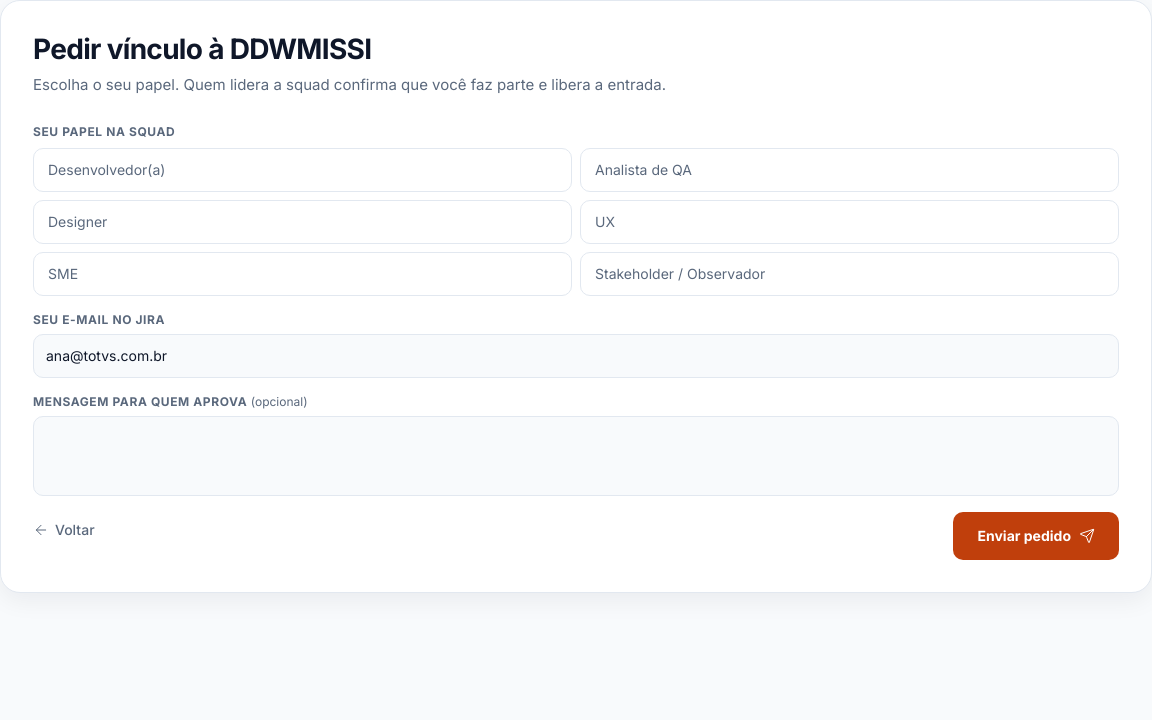
Test: RequestLinkStep: pessoa que não aparece na lista › envia kind=CONTRIBUTOR e requestedRoleName
Click the radio button labelled "Analista de QA".
click(643, 169)  # box [580,148,1119,192]
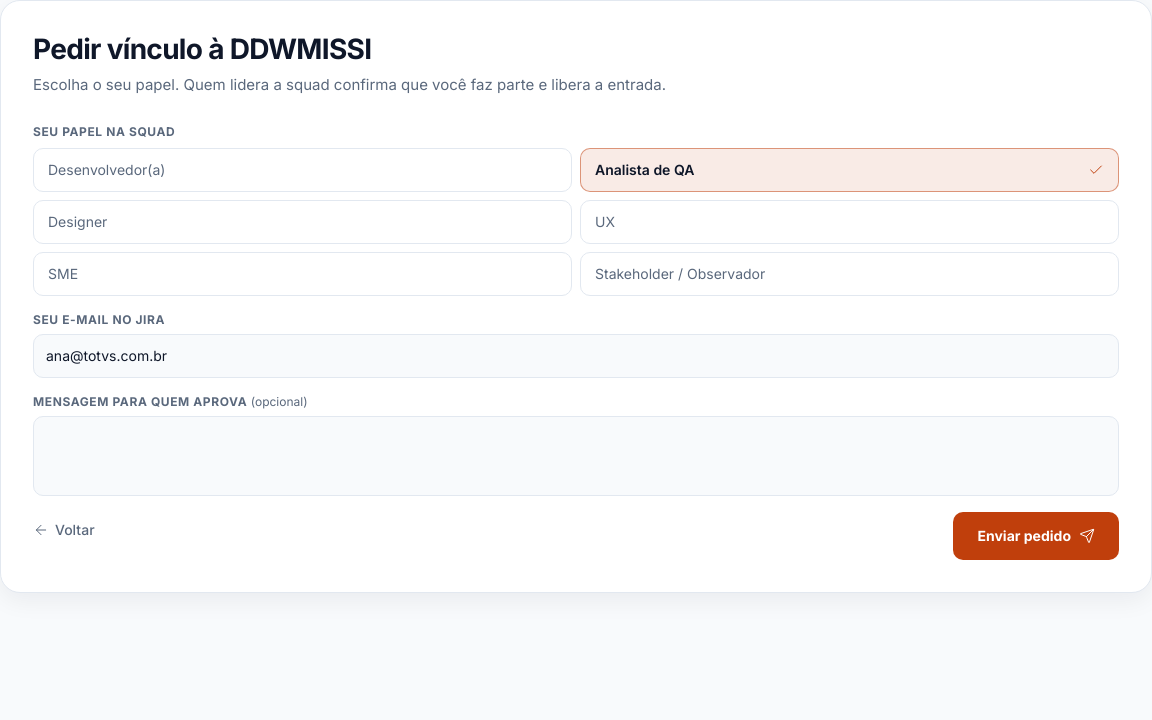
Expected: the radio button labelled "Analista de QA" is checked, [580,148,1119,192]
Click the button "Enviar pedido".
click(1036, 536)  # box [954,512,1119,560]
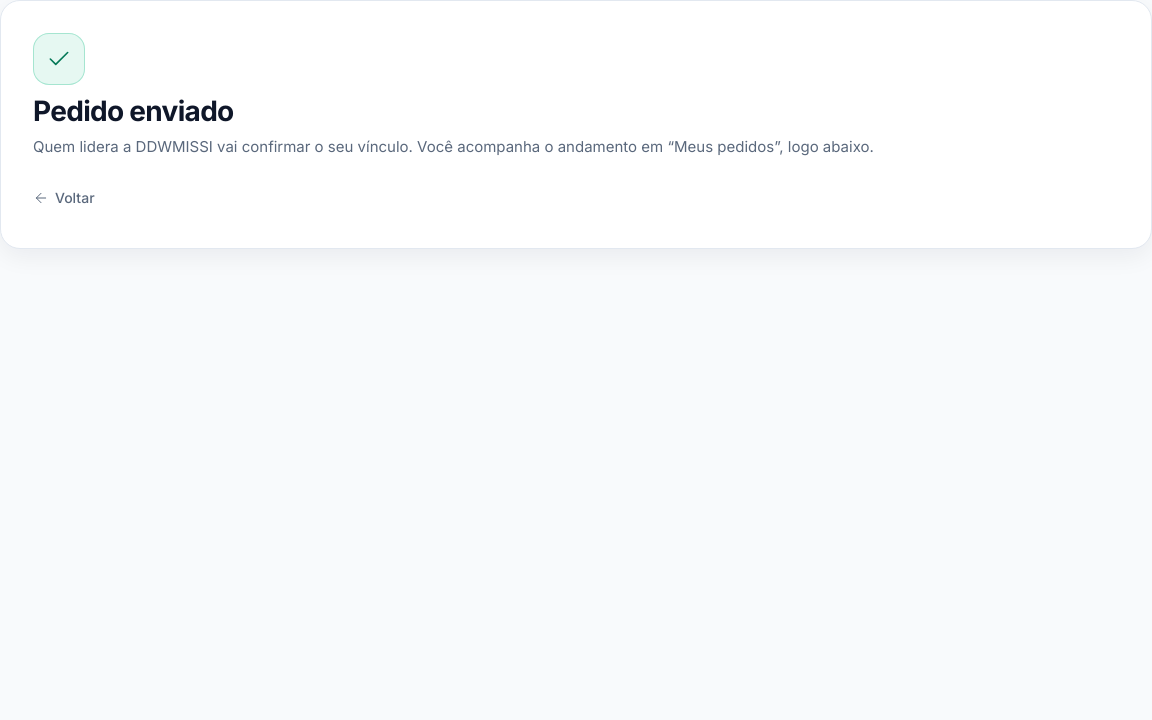
Expected: the heading "Pedido enviado" is shown, [33,95,234,127]
